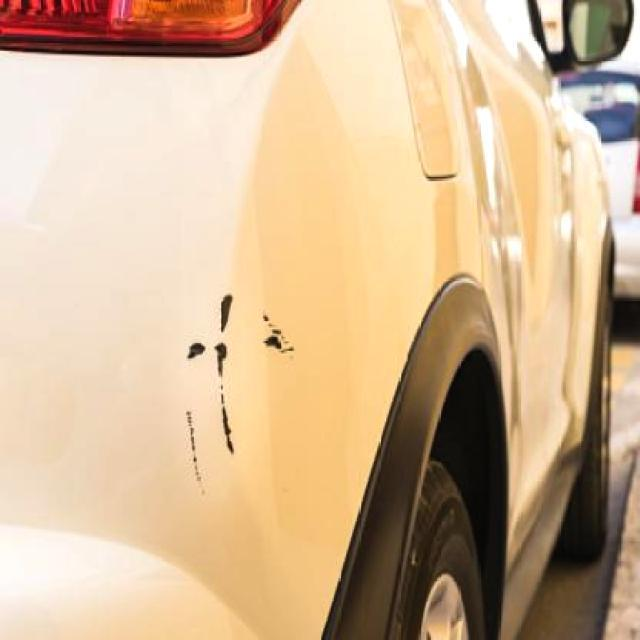minor: (218, 292, 240, 457), (257, 308, 298, 360), (183, 411, 206, 498), (186, 343, 208, 362)
